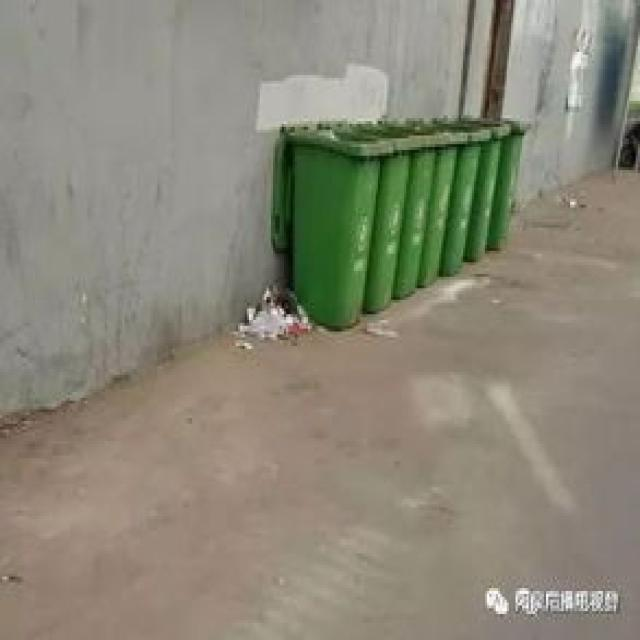garbage: (232, 280, 310, 346)
garbage_bin: (266, 118, 389, 326), (360, 118, 413, 312), (393, 118, 441, 297), (417, 118, 463, 286), (463, 115, 509, 262), (485, 110, 526, 245)
